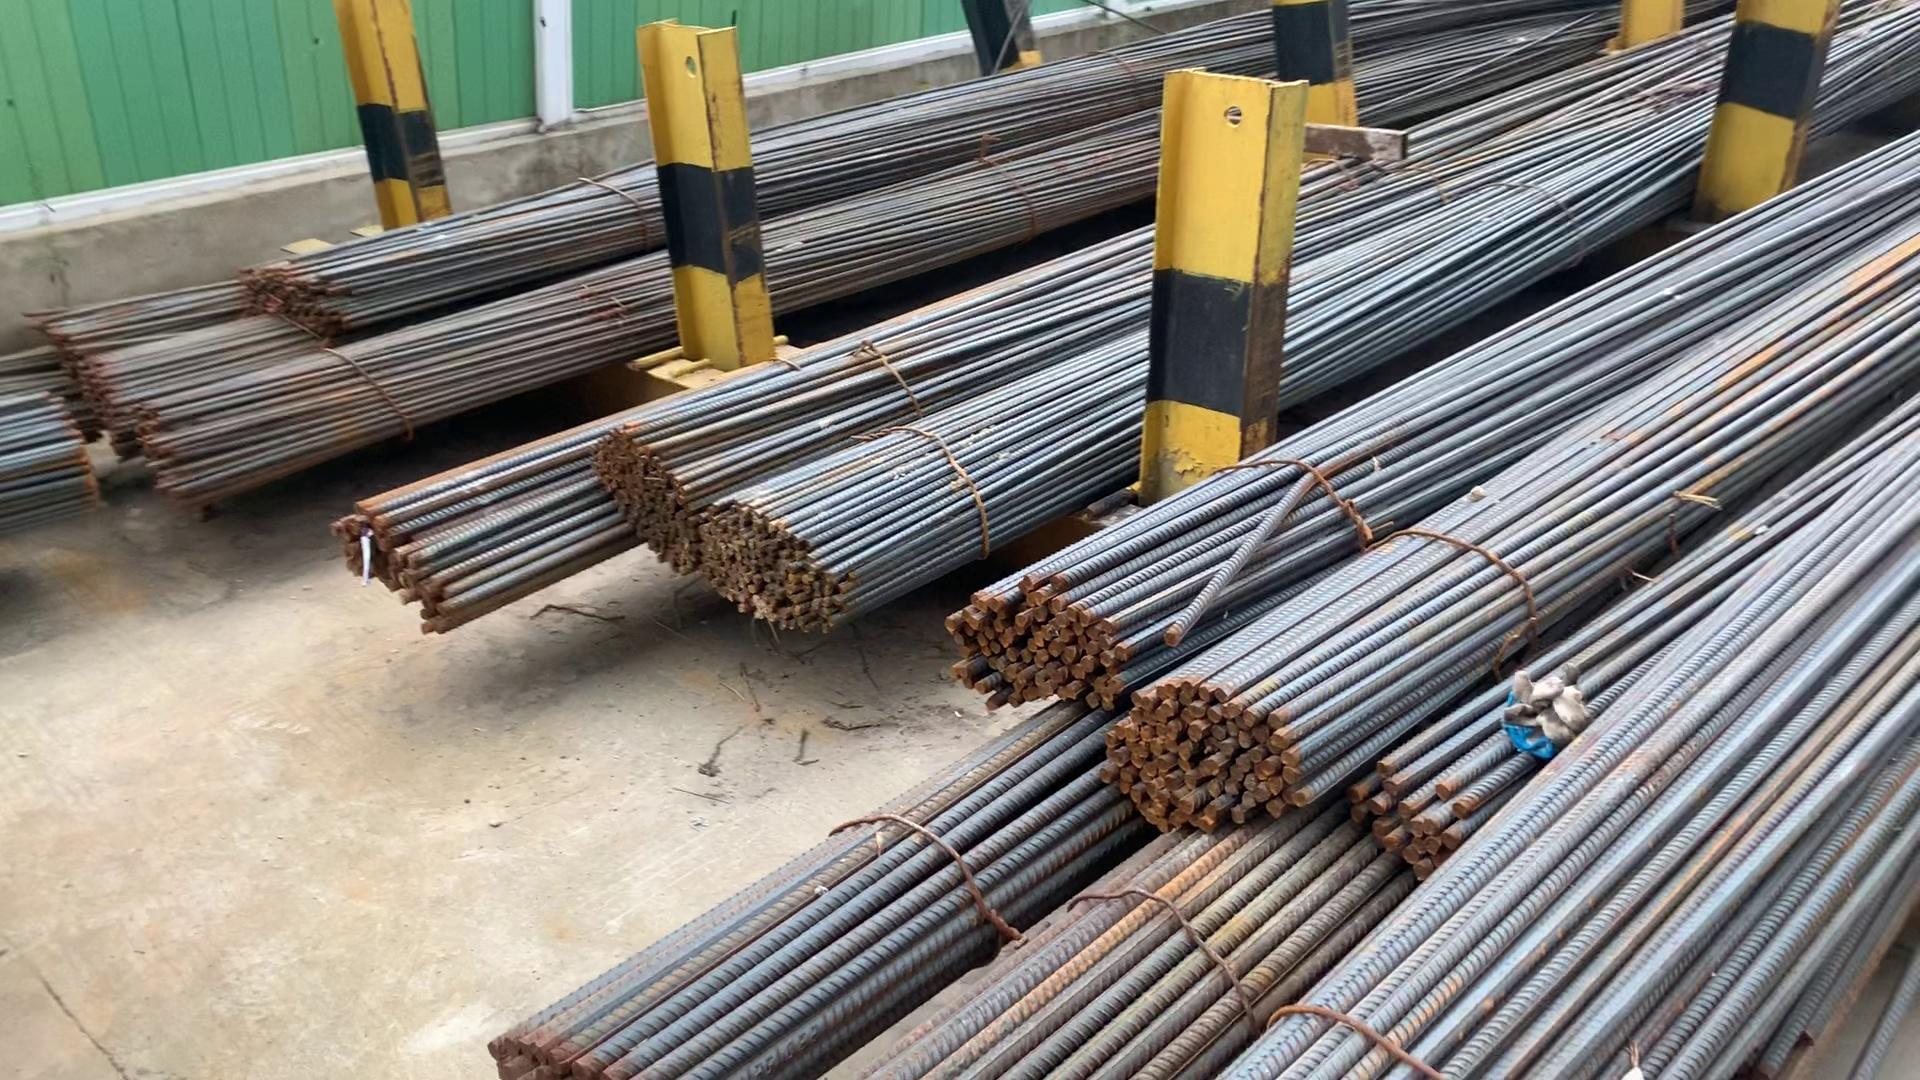rebar: (1104, 684, 1320, 831), (945, 580, 1124, 713), (700, 498, 853, 633), (334, 498, 462, 636), (591, 430, 696, 583), (1342, 761, 1470, 865), (235, 253, 365, 342)
